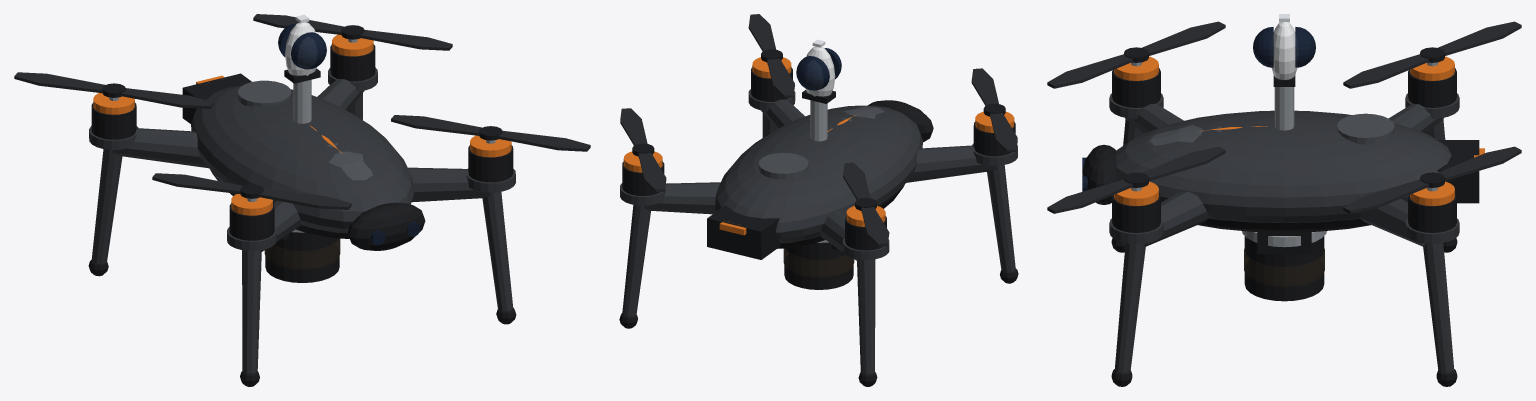
The model's file is canopy_scout.obj.
3 renders of one model, left to right at view 1: azimuth 30°, elevation 25°; view 2: azimuth 150°, elevation 25°; view 3: azimuth 270°, elevation 25°, orthographic. The views are drawn at different scales.
Bounding box in the file's own units: 0.2484 × 0.185 × 0.2628.
